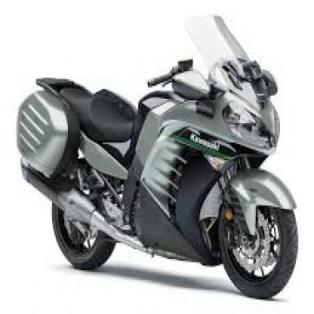Motocicleta: (10, 9, 301, 302)
